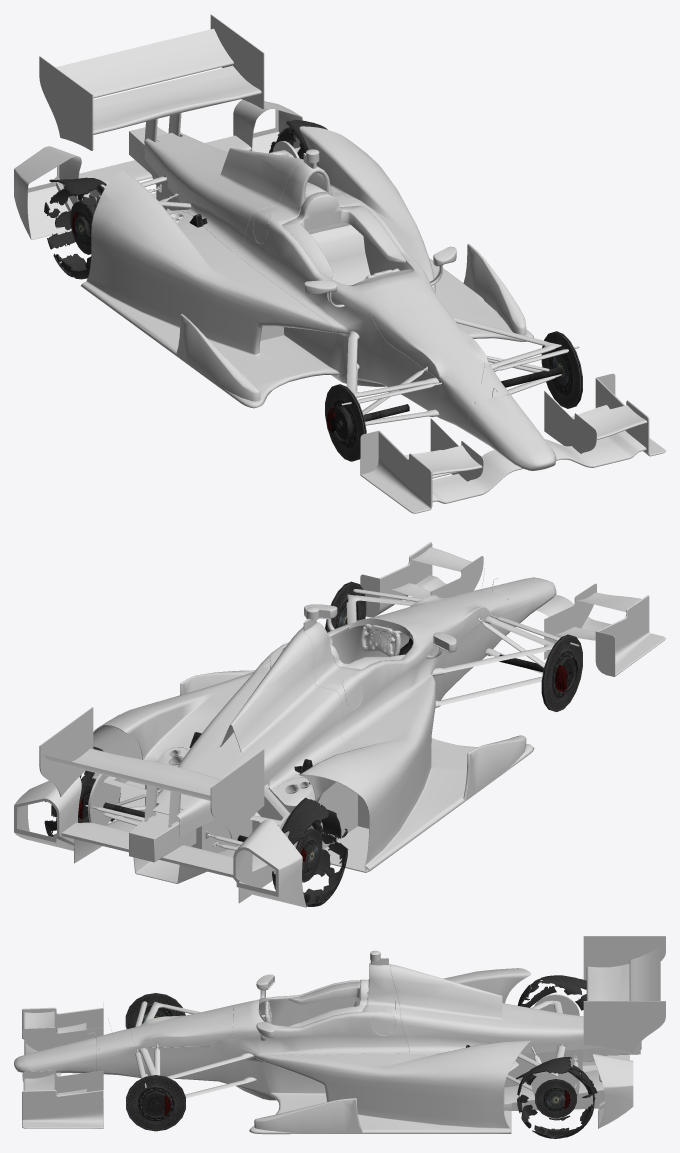
File: 13_IndyCar.fbx
3 views of the same model, one above another, from view 1: azimuth 30°, elevation 25°; view 2: azimuth 150°, elevation 25°; view 3: azimuth 270°, elevation 25° (orthographic). The views are drawn at different scales.
Parts seen in each view (by area): view 1: Body_Duco, Body_Fibre, Rotor (×3), Body_Glossy, RearAxel; view 2: Body_Duco, Body_Fibre, Rotor (×3), Body_Glossy, Tyre_Explode_09, Body_Wheel, RearAxel; view 3: Body_Duco, Body_Fibre, Rotor (×3), Tyre_Explode_09 (×2), Body_Glossy, RearAxel.
Boxes of the visible parts, x1=… form: Body_Duco: x1=14, y1=14, x2=665, y2=513; Body_Fibre: x1=27, y1=108, x2=555, y2=425; Rotor (×3): x1=70, y1=200, x2=582, y2=461; Body_Glossy: x1=95, y1=147, x2=579, y2=415; RearAxel: x1=333, y1=404, x2=409, y2=441; Body_Duco: x1=14, y1=542, x2=665, y2=907; Body_Fibre: x1=17, y1=595, x2=554, y2=903; Rotor (×3): x1=295, y1=581, x2=582, y2=882; Body_Glossy: x1=85, y1=589, x2=579, y2=850; Tyre_Explode_09: x1=281, y1=797, x2=328, y2=844; Body_Wheel: x1=360, y1=623, x2=402, y2=656; RearAxel: x1=499, y1=654, x2=577, y2=691; Body_Duco: x1=14, y1=936, x2=665, y2=1134; Body_Fibre: x1=139, y1=992, x2=640, y2=1133; Rotor (×3): x1=125, y1=993, x2=576, y2=1131; Tyre_Explode_09 (×2): x1=516, y1=975, x2=586, y2=1079; Body_Glossy: x1=135, y1=1001, x2=578, y2=1090; RearAxel: x1=142, y1=1093, x2=165, y2=1117.
Size of what is drawn, in the model's own units: 1.98 by 1.18 by 4.98.
